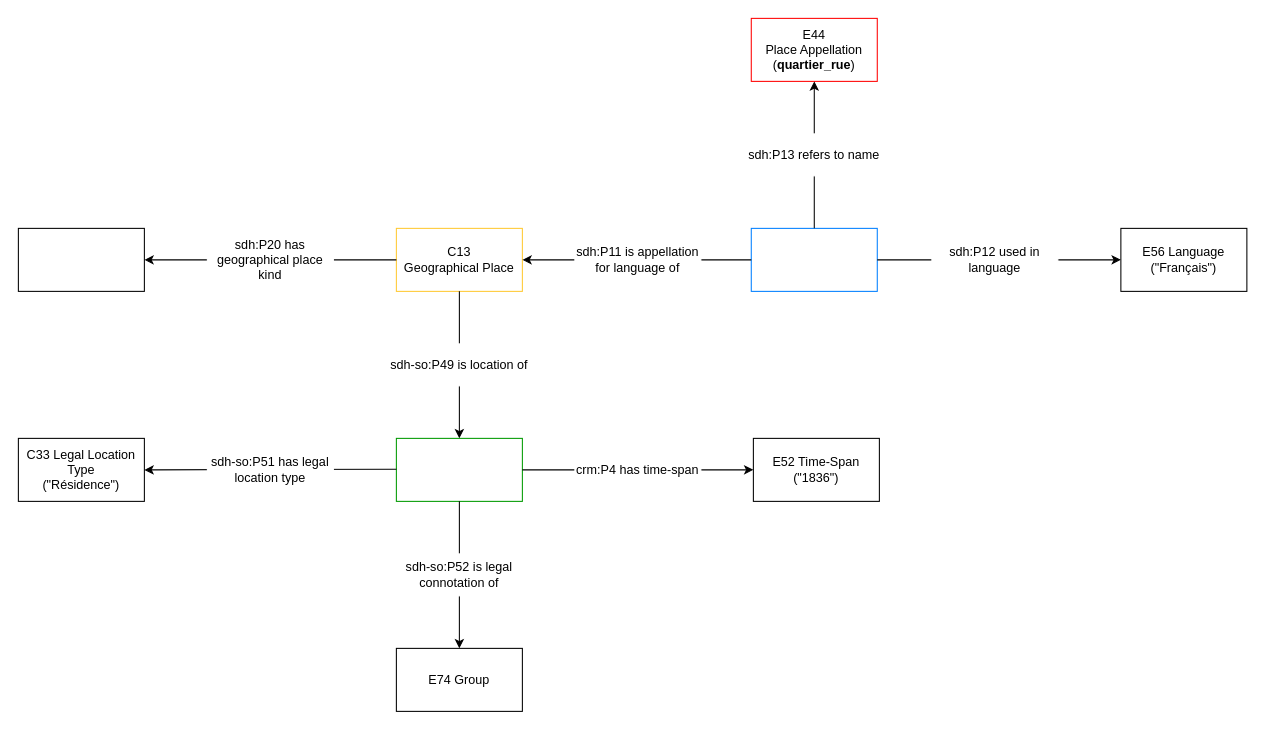
Some shapes in this 1265 by 730 pixel diagram are drawn without their labels. The box of each missing label's shape, as (x1, y1, x2, y2) in pixels:
C11 Appellation in a Language: (750, 227, 877, 291)
C28 Legal Location of an Actor: (395, 437, 522, 501)
C51 Geographical Place Kind: (17, 227, 144, 291)
